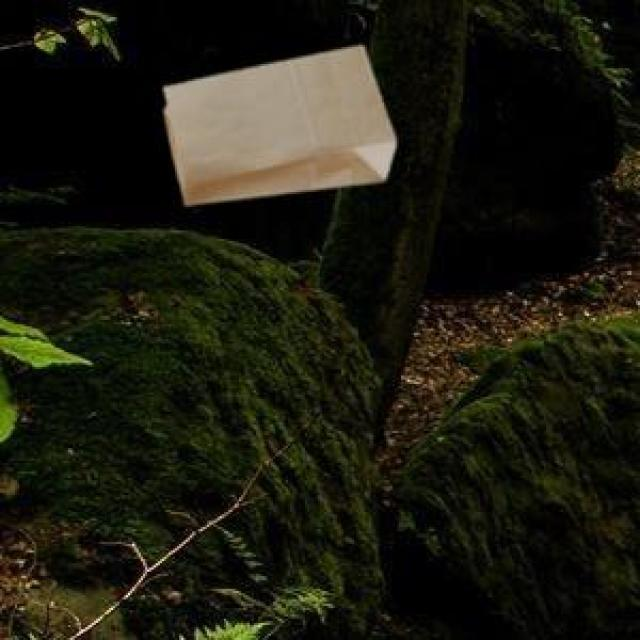paper: (160, 43, 390, 201)
